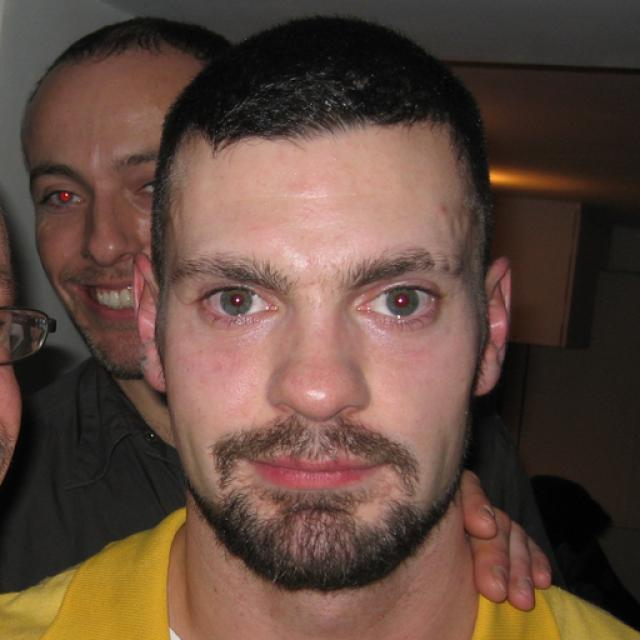neutral: (166, 121, 489, 591)
